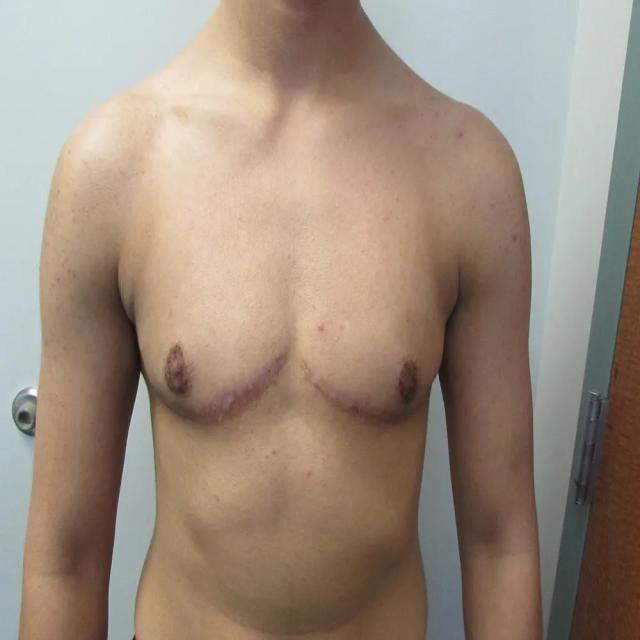Seno herido: (118, 189, 292, 452), (297, 189, 461, 452)
